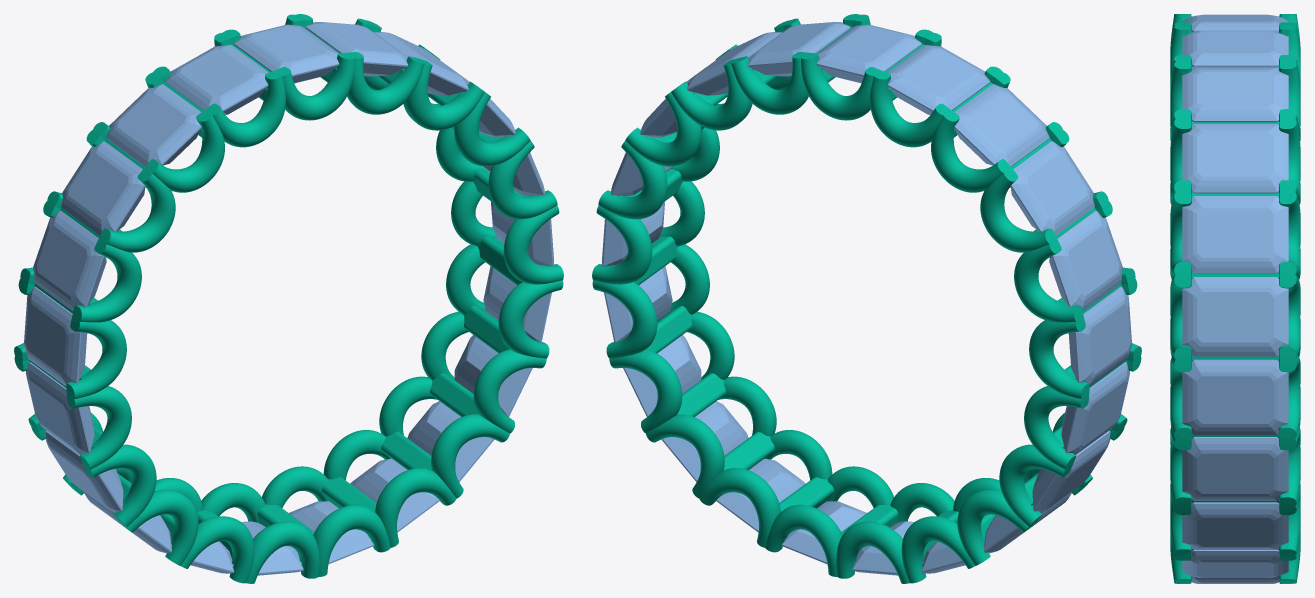
The picture shows the model from 3 angles, left to right: view 1: azimuth 30°, elevation 25°; view 2: azimuth 150°, elevation 25°; view 3: azimuth 270°, elevation 25°; orthographic projection.
Visible parts, largest first — view 1: EM 4MM(front).3dm, Diamond_Emerald (×21); view 2: EM 4MM(front).3dm, Diamond_Emerald (×21); view 3: Diamond_Emerald (×11), EM 4MM(front).3dm.
Part boxes in pixels (left/top/right/bottom): EM 4MM(front).3dm: left=14, top=14, right=563, bottom=583; Diamond_Emerald (×21): left=24, top=22, right=553, bottom=575; EM 4MM(front).3dm: left=592, top=14, right=1141, bottom=583; Diamond_Emerald (×21): left=602, top=22, right=1131, bottom=575; Diamond_Emerald (×11): left=1182, top=14, right=1288, bottom=583; EM 4MM(front).3dm: left=1170, top=14, right=1300, bottom=583.
Size of the model in its own units: 2.79 by 2.79 by 0.6394.
